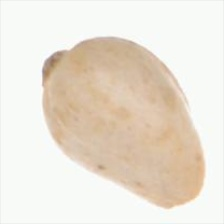L1: (41, 48, 71, 88), (156, 193, 206, 211)
L2: (40, 36, 207, 209)
